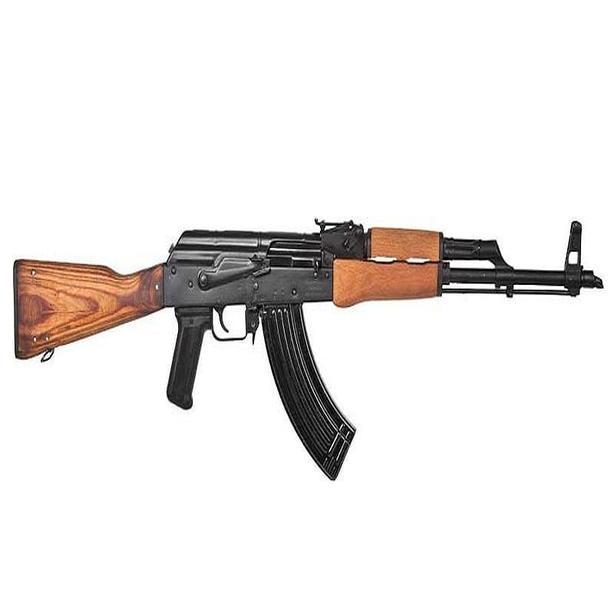Firearm: (1, 171, 612, 492)
